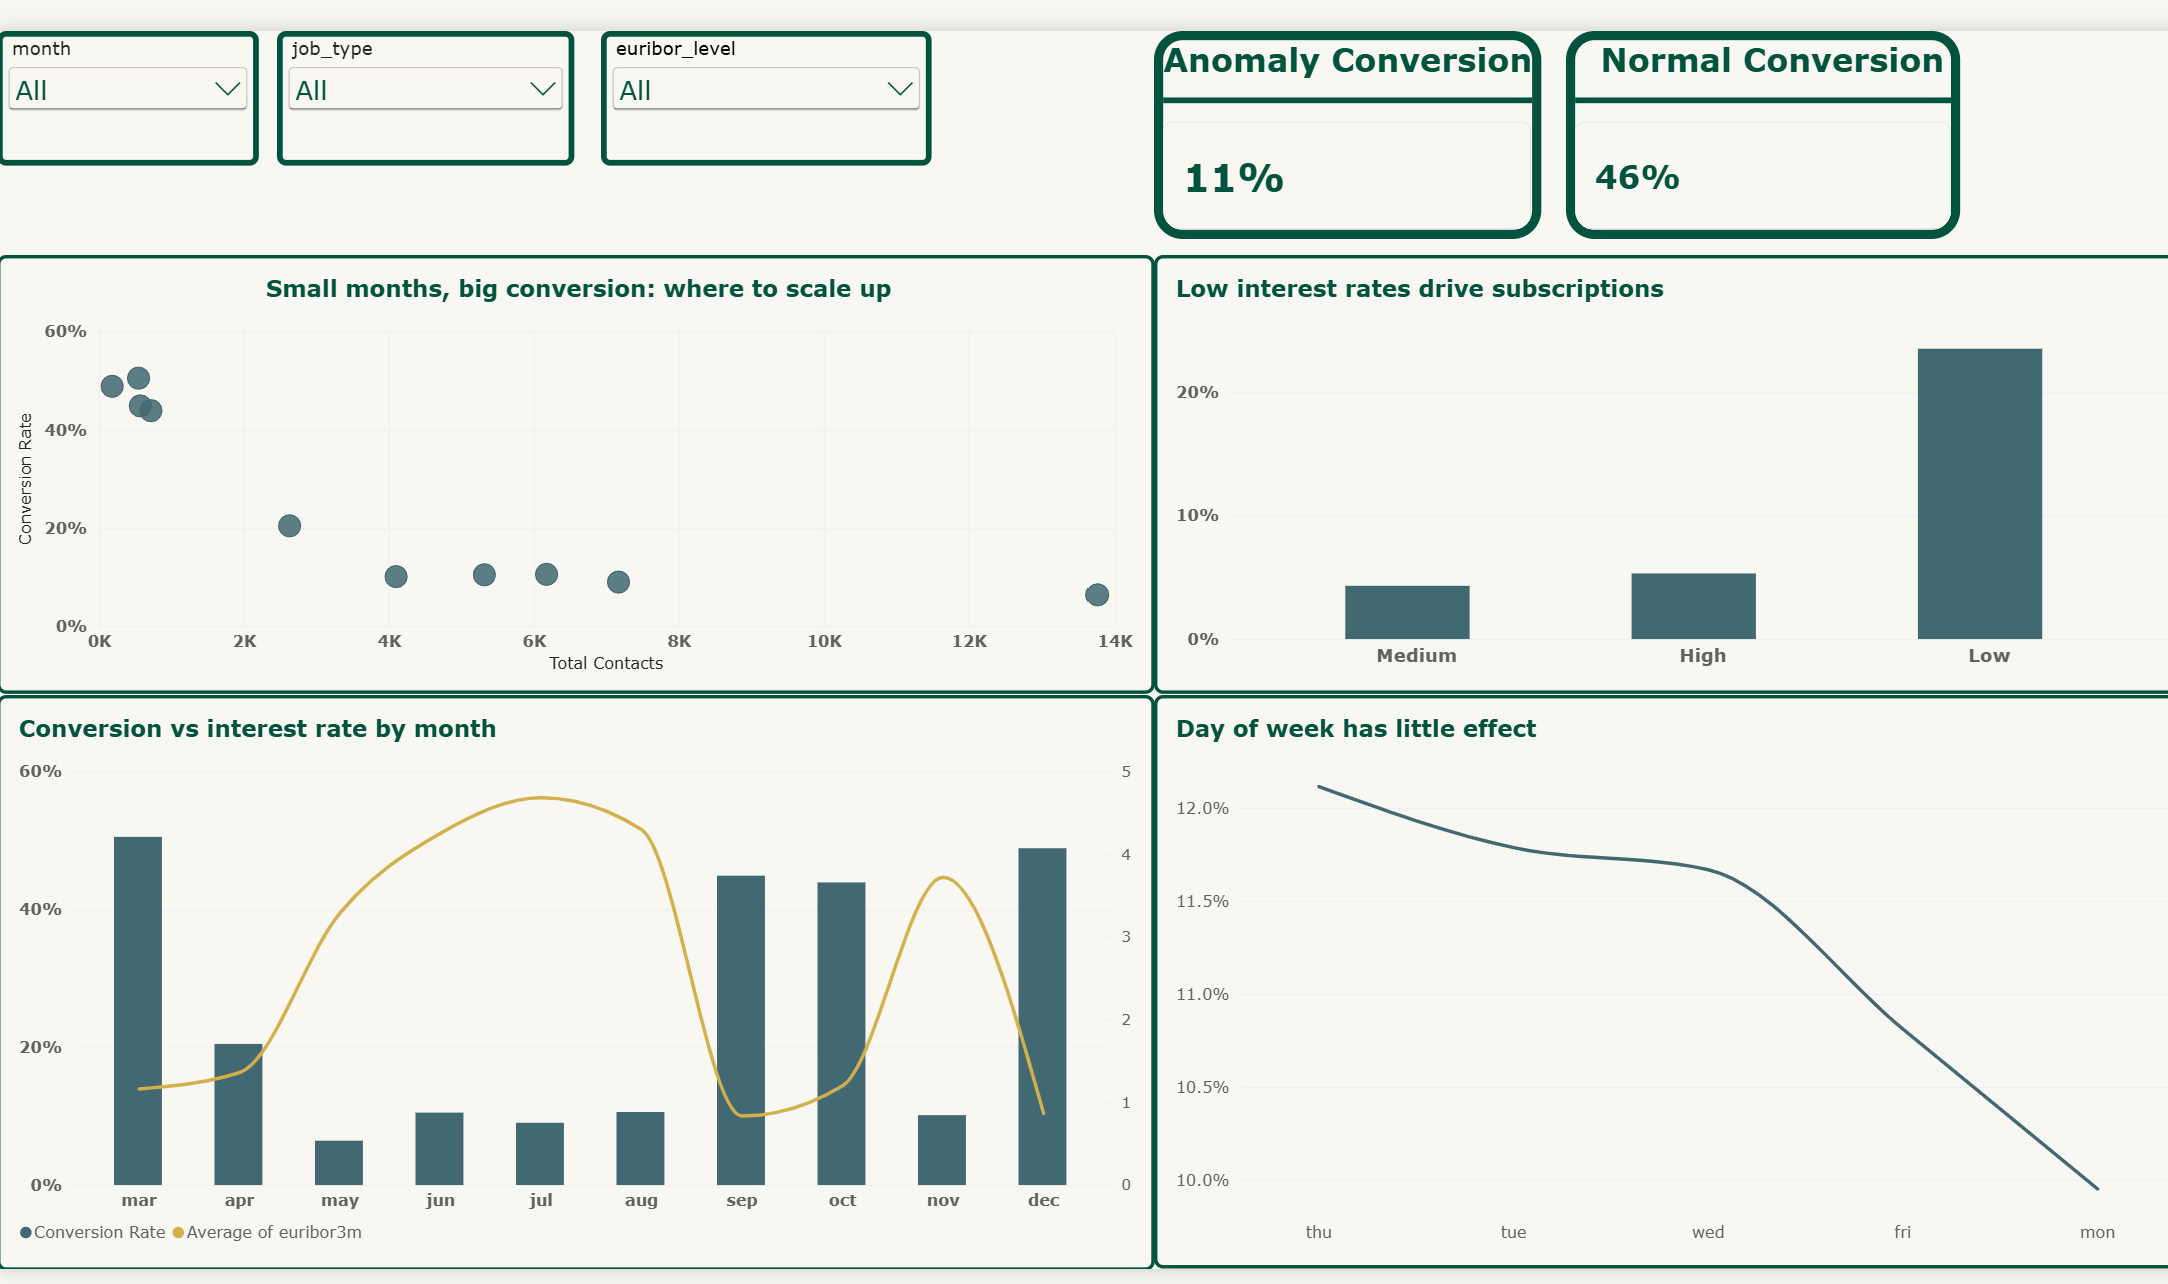

The dashboard page shown, as its layout file describes it:
{"tool":"powerbi","page":{"name":"Timing & Economy","canvas":[1920,1080],"ordinal":4},"visuals":[{"type":"scatterChart","title":"Small months, big conversion: where to scale up","fields":{"Category":["bank.month"],"X":["bank.Total Contacts"],"Y":["bank.Conversion Rate"]},"box":[0,195.7,1009.4,383.2],"z":0},{"type":"lineClusteredColumnComboChart","title":"Conversion vs interest rate by month","fields":{"Category":["bank.month"],"Y":["bank.Conversion Rate"],"Y2":["Avg(bank.euribor3m)"]},"box":[0,578.9,1009.4,502.7],"z":1000},{"type":"clusteredColumnChart","title":"Low interest rates drive subscriptions","fields":{"Category":["bank.euribor_level"],"Y":["bank.Conversion Rate"]},"box":[1009.4,195.7,910.6,383.2],"z":2000},{"type":"lineChart","title":"Day of week has little effect","fields":{"Category":["bank.day_of_week"],"Y":["bank.Conversion Rate"]},"box":[1009.4,578.9,910.6,500.6],"z":3000},{"type":"cardVisual","title":"Normal Conversion","fields":{"Data":["bank.Anomaly Conversion"]},"box":[1367.9,0,344,181.3],"z":4000},{"type":"cardVisual","title":"Anomaly Conversion","fields":{"Data":["bank.Normal Conversion"]},"box":[1009.4,0,337.9,181.3],"z":5000},{"type":"slicer","fields":{"Values":["bank.month"]},"box":[0,0,228.7,117.4],"z":6000},{"type":"slicer","fields":{"Values":["bank.job_type"]},"box":[245.2,0,259.6,117.4],"z":7000},{"type":"slicer","fields":{"Values":["bank.euribor_level"]},"box":[527.4,0,288.4,117.4],"z":8000}]}

Visuals, with their boxes in screenshot pixels (x1, y1, x2, y2):
"Small months, big conversion: where to scale up" scatterChart: pyautogui.locateOnScreen(0, 249, 1154, 691)
"Conversion vs interest rate by month" lineClusteredColumnComboChart: pyautogui.locateOnScreen(0, 691, 1154, 1271)
"Low interest rates drive subscriptions" clusteredColumnChart: pyautogui.locateOnScreen(1154, 249, 2167, 691)
"Day of week has little effect" lineChart: pyautogui.locateOnScreen(1154, 691, 2167, 1269)
"Normal Conversion" cardVisual: pyautogui.locateOnScreen(1568, 23, 1965, 232)
"Anomaly Conversion" cardVisual: pyautogui.locateOnScreen(1154, 23, 1544, 232)
slicer - bank.month: pyautogui.locateOnScreen(0, 23, 253, 158)
slicer - bank.job_type: pyautogui.locateOnScreen(272, 23, 571, 158)
slicer - bank.euribor_level: pyautogui.locateOnScreen(598, 23, 931, 158)
